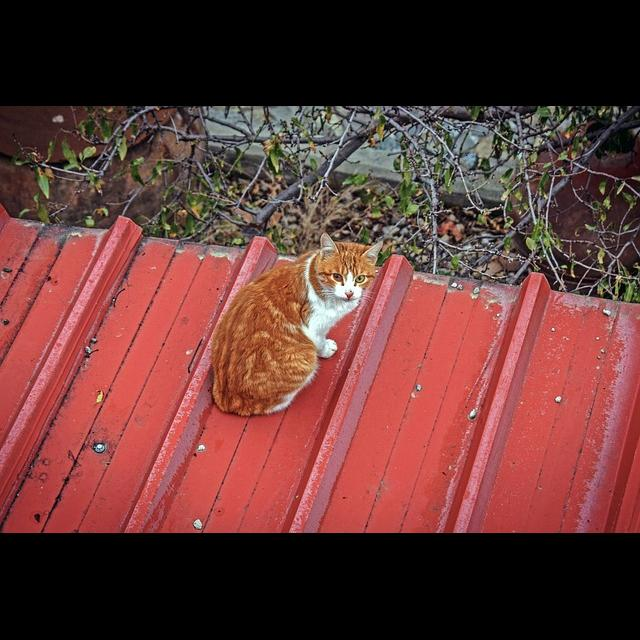animals: (204, 219, 386, 424)
